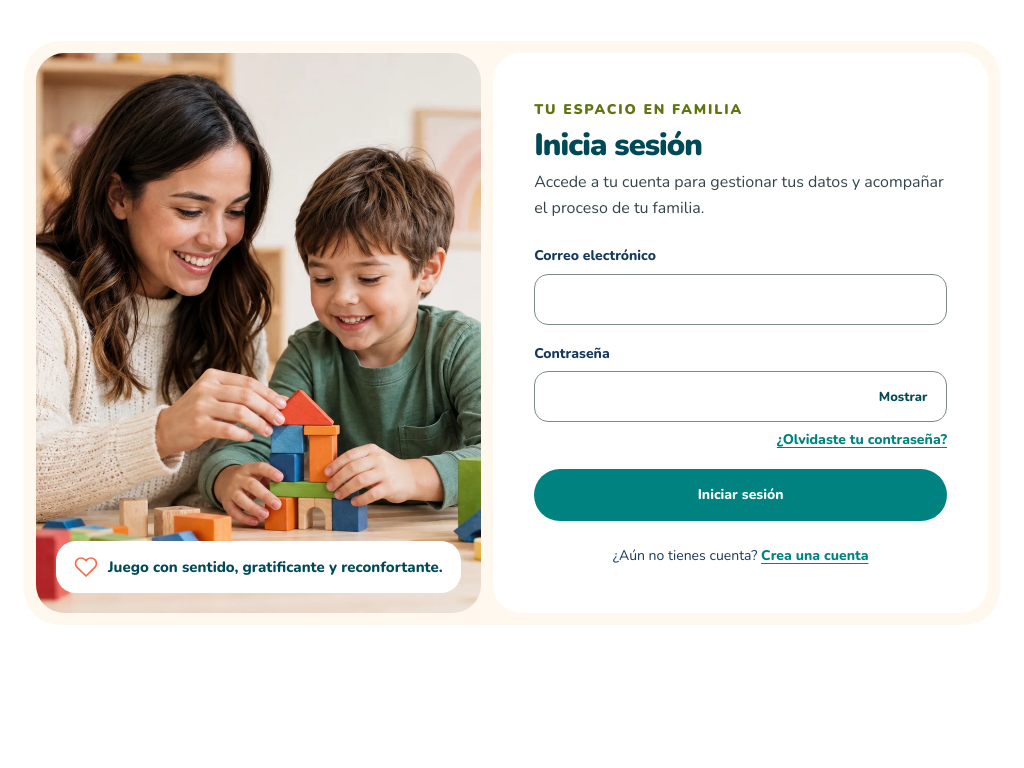
Scenario: LoginComponent › shows field errors and focuses the first invalid field
The width and height of the screenshot is (1024, 768).
Type "ana@" into the field with id "login-email" at {"x": 741, "y": 299}, box 534,274 -> 947,325
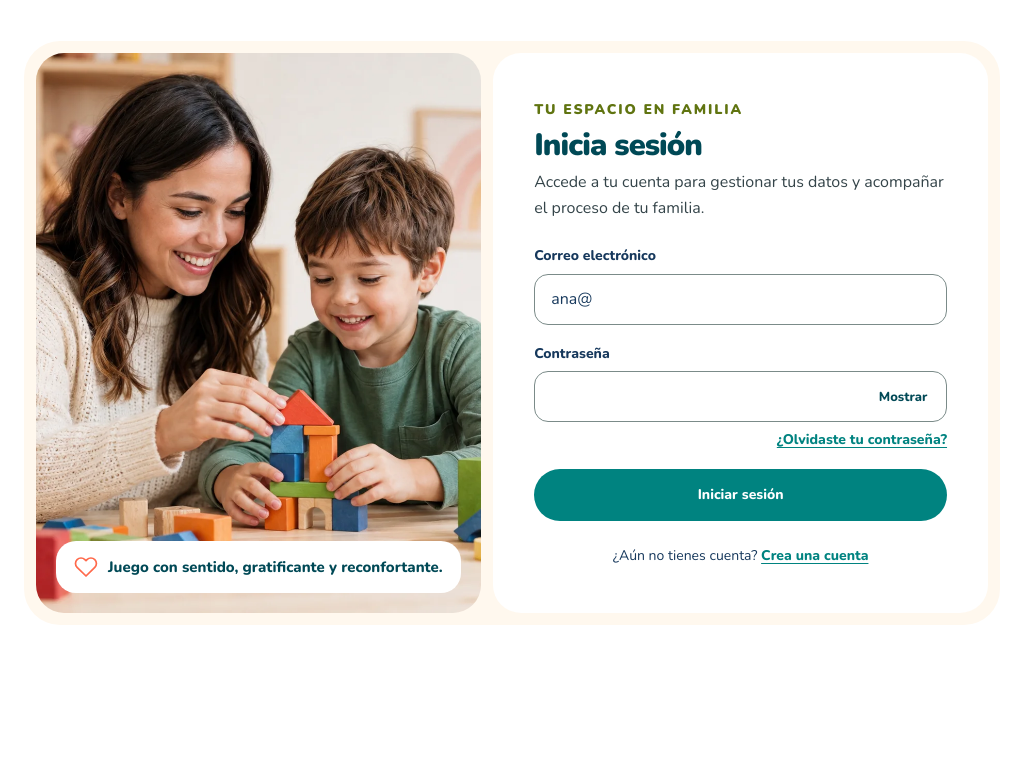
Click the submit button at {"x": 741, "y": 495}, box 534,469 -> 947,521
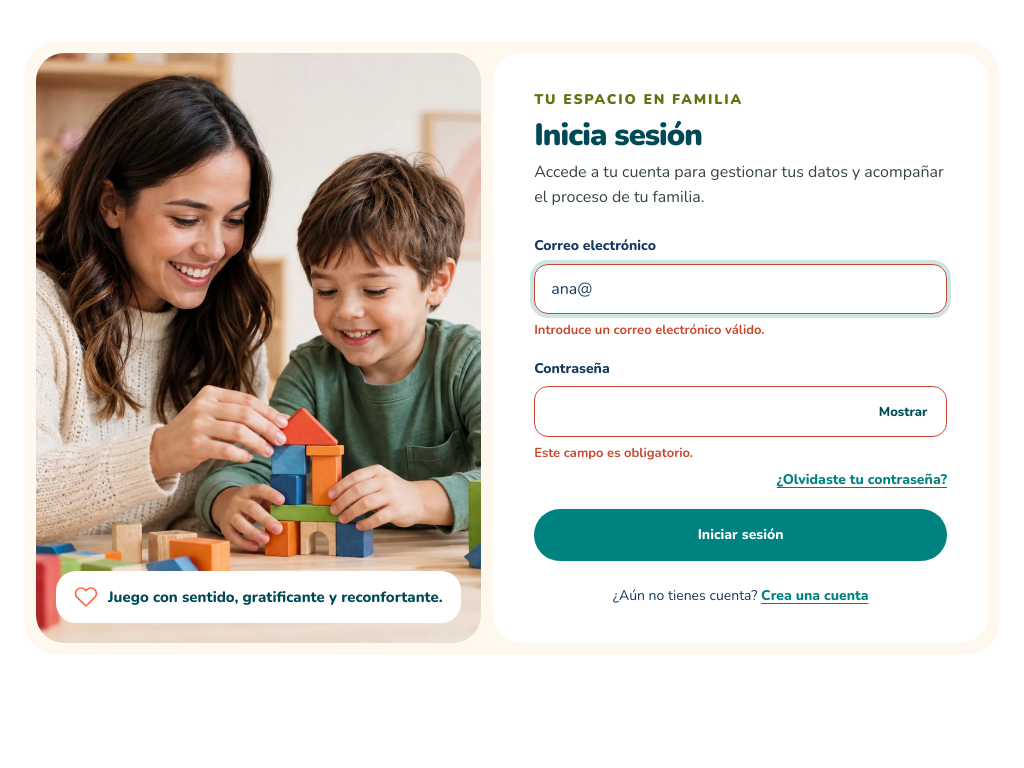
expect the text with id "login-email-error" shows "correo electrónico válido": met, box 534,322 -> 765,340
expect the text with id "login-password-error" shows "obligatorio": met, box 534,444 -> 693,462
